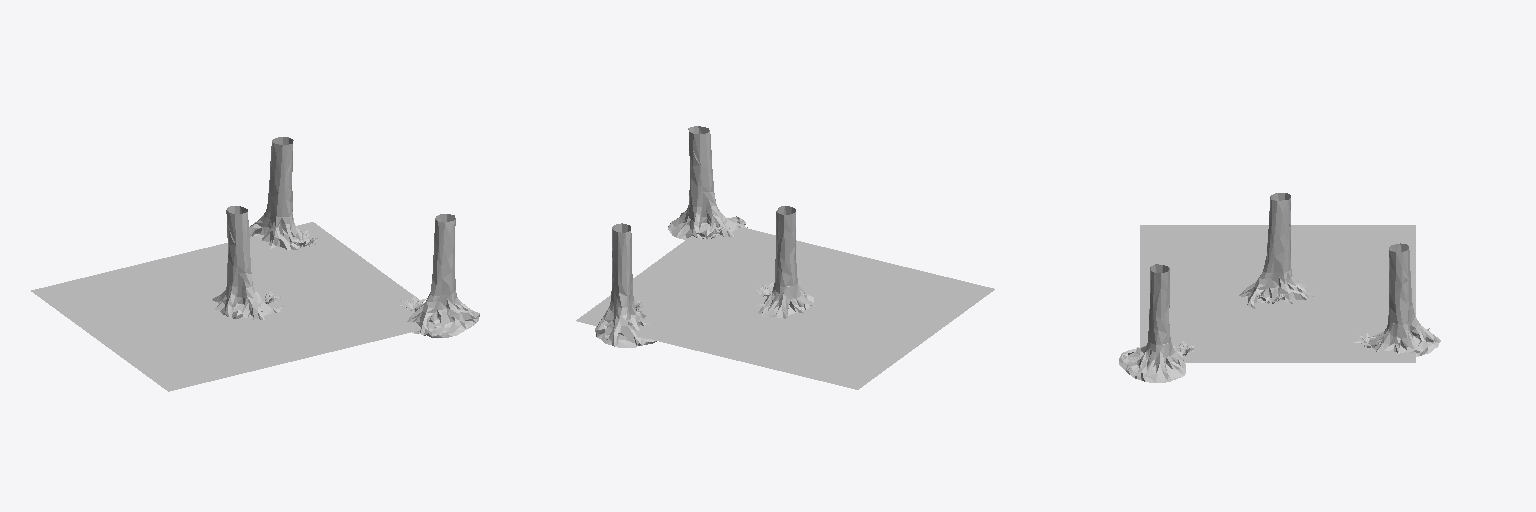
File: testmap.obj
The picture shows the model from 3 angles: view 1: azimuth 30°, elevation 25°; view 2: azimuth 150°, elevation 25°; view 3: azimuth 270°, elevation 25°; orthographic projection.
Parts seen in each view (by area): view 1: Plane001, Aset_nature_tree_L_whjtba1aw_00_LOD006, Aset_nature_tree_L_whjtba1aw_00_LOD5, Aset_nature_tree_L_whjtba1aw_00_LOD007; view 2: Plane001, Aset_nature_tree_L_whjtba1aw_00_LOD006, Aset_nature_tree_L_whjtba1aw_00_LOD007, Aset_nature_tree_L_whjtba1aw_00_LOD5; view 3: Plane001, Aset_nature_tree_L_whjtba1aw_00_LOD006, Aset_nature_tree_L_whjtba1aw_00_LOD007, Aset_nature_tree_L_whjtba1aw_00_LOD5.
Boxes of the visible parts, box(x1,y1,x2,y2) form: Plane001: box(31, 222, 450, 391); Aset_nature_tree_L_whjtba1aw_00_LOD006: box(407, 214, 479, 337); Aset_nature_tree_L_whjtba1aw_00_LOD5: box(212, 206, 283, 319); Aset_nature_tree_L_whjtba1aw_00_LOD007: box(249, 137, 309, 250); Plane001: box(576, 227, 994, 389); Aset_nature_tree_L_whjtba1aw_00_LOD006: box(668, 126, 747, 239); Aset_nature_tree_L_whjtba1aw_00_LOD007: box(595, 223, 656, 347); Aset_nature_tree_L_whjtba1aw_00_LOD5: box(757, 206, 813, 318); Plane001: box(1140, 225, 1415, 362); Aset_nature_tree_L_whjtba1aw_00_LOD006: box(1119, 264, 1185, 382); Aset_nature_tree_L_whjtba1aw_00_LOD007: box(1364, 243, 1440, 356); Aset_nature_tree_L_whjtba1aw_00_LOD5: box(1239, 193, 1313, 309).
Size of the model in its own units: 996 by 304 by 882.